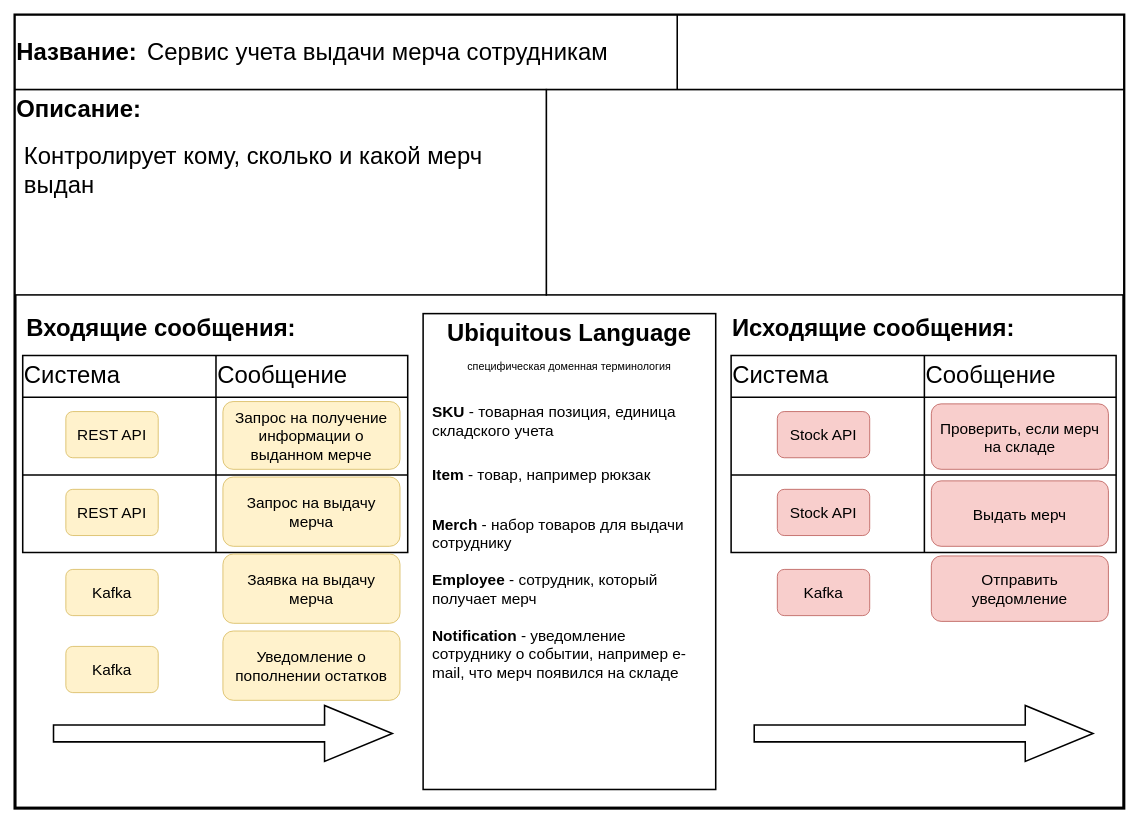
The diagram is 1138 pixels wide and 822 high, and some of its shapes have lost their labels. Each missing label, with the centre of its shape:
"Bouneded context canvas" belongs at point 900,52.
"Стратегическая классификация:" belongs at point 834,191.
